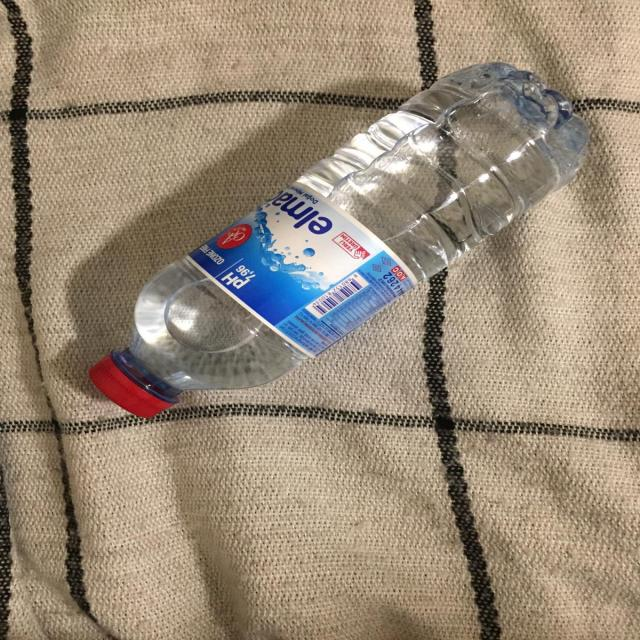bottle: (97, 77, 583, 408)
